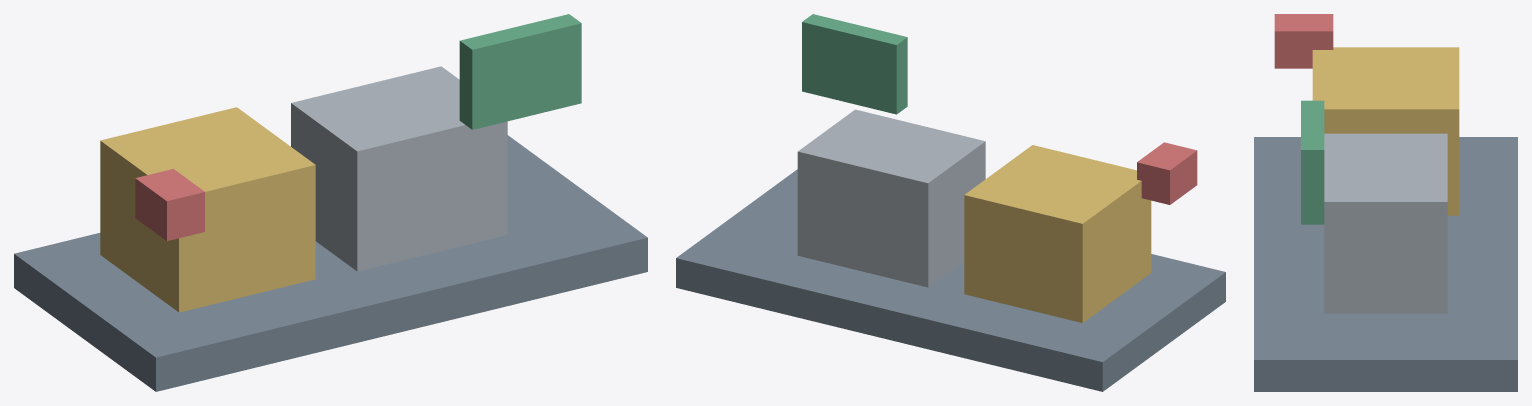
File: gate.glb
3 views of the same model, side by side, from view 1: azimuth 30°, elevation 25°; view 2: azimuth 150°, elevation 25°; view 3: azimuth 270°, elevation 25° (orthographic). The views are drawn at different scales.
Visible parts, largest first — view 1: Cover, Gearbox, Motor, ControlBoard, Sensor; view 2: Cover, Motor, Gearbox, ControlBoard, Sensor; view 3: Cover, Gearbox, Motor, ControlBoard, Sensor.
Part boxes in pixels (left/top/right/bottom): Cover: left=14, top=135, right=647, bottom=391; Gearbox: left=291, top=66, right=507, bottom=271; Motor: left=100, top=107, right=315, bottom=312; ControlBoard: left=459, top=14, right=581, bottom=129; Sensor: left=135, top=169, right=204, bottom=240; Cover: left=676, top=169, right=1225, bottom=391; Motor: left=964, top=145, right=1151, bottom=322; Gearbox: left=797, top=109, right=985, bottom=287; ControlBoard: left=802, top=14, right=907, bottom=114; Sensor: left=1137, top=142, right=1197, bottom=204; Cover: left=1254, top=137, right=1517, bottom=391; Gearbox: left=1324, top=133, right=1447, bottom=313; Motor: left=1312, top=47, right=1459, bottom=215; ControlBoard: left=1301, top=100, right=1324, bottom=224; Sensor: left=1274, top=14, right=1333, bottom=68.
Size of the model in its own units: 1.8 by 0.84 by 0.9.
